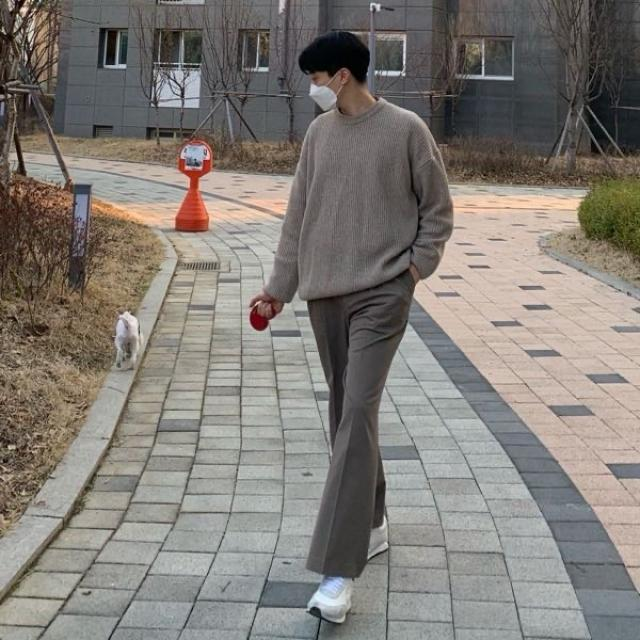slacks: (302, 275, 412, 581)
sweater: (259, 95, 455, 302)
